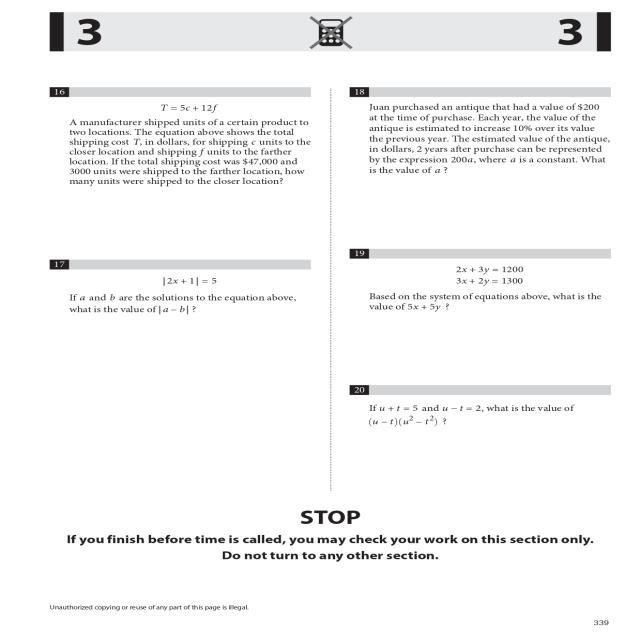Question_Answer_Block: (338, 380, 624, 492), (37, 82, 325, 192), (338, 82, 624, 180), (338, 248, 624, 329), (37, 254, 325, 324)
Question_Block: (338, 380, 624, 492), (37, 82, 325, 192), (338, 82, 624, 180), (338, 248, 624, 329), (37, 254, 325, 324)
Question_Paper_Area: (37, 82, 325, 494), (338, 82, 624, 492)
